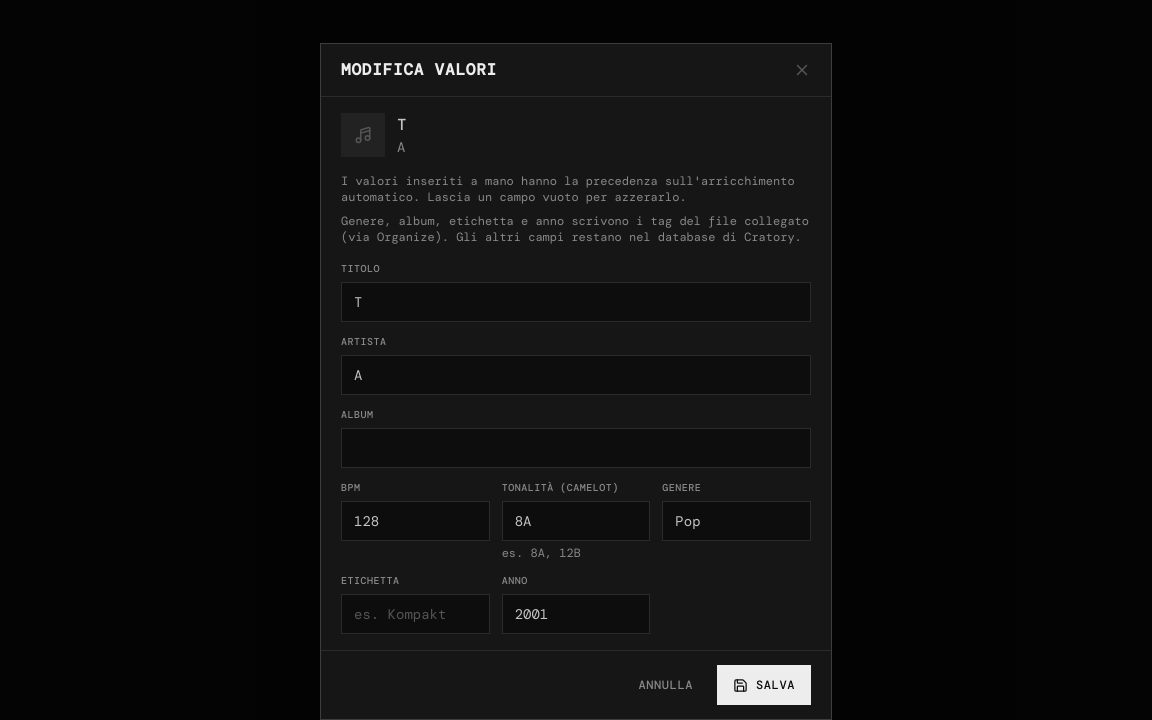
Test: TrackEditModal — indipendenza degli errori tra i due percorsi (C5) › entrambi i percorsi falliscono: il messaggio riporta entrambi i prefissi
The image size is (1152, 720).
(page scrolled)
Replace the text in the field showing "Pop" with "Techno" at (737, 521), box [662,501,811,541]
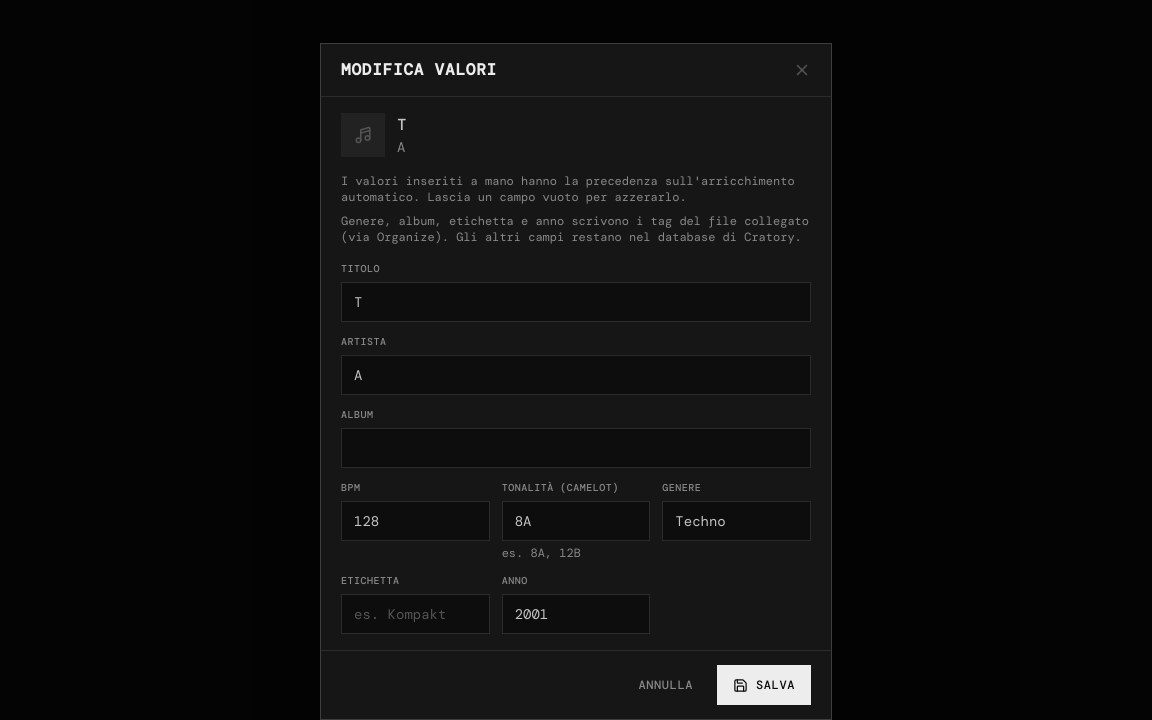
Type "130" into the number field showing "128" at (415, 521), box [341,501,490,541]
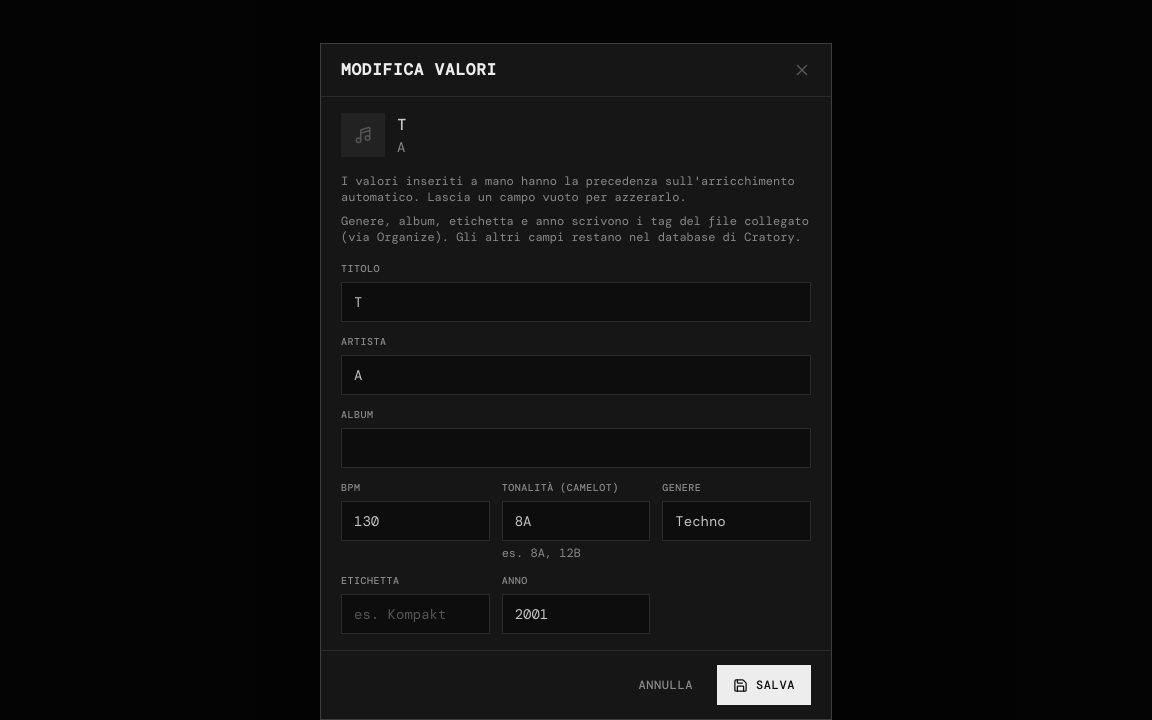
Submit the form with id "track-edit-form", box [341,261,811,634]
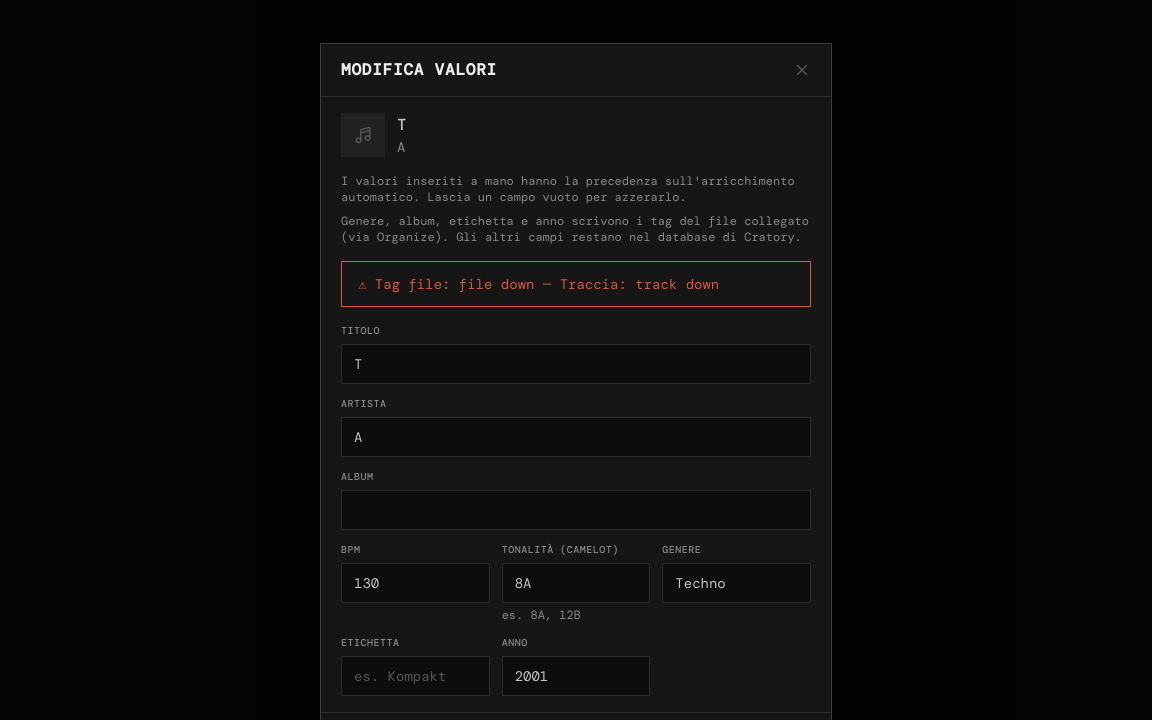
expect the text "⚠ Tag file: file down — Traccia: track down" is shown: met, box [341,261,811,307]
